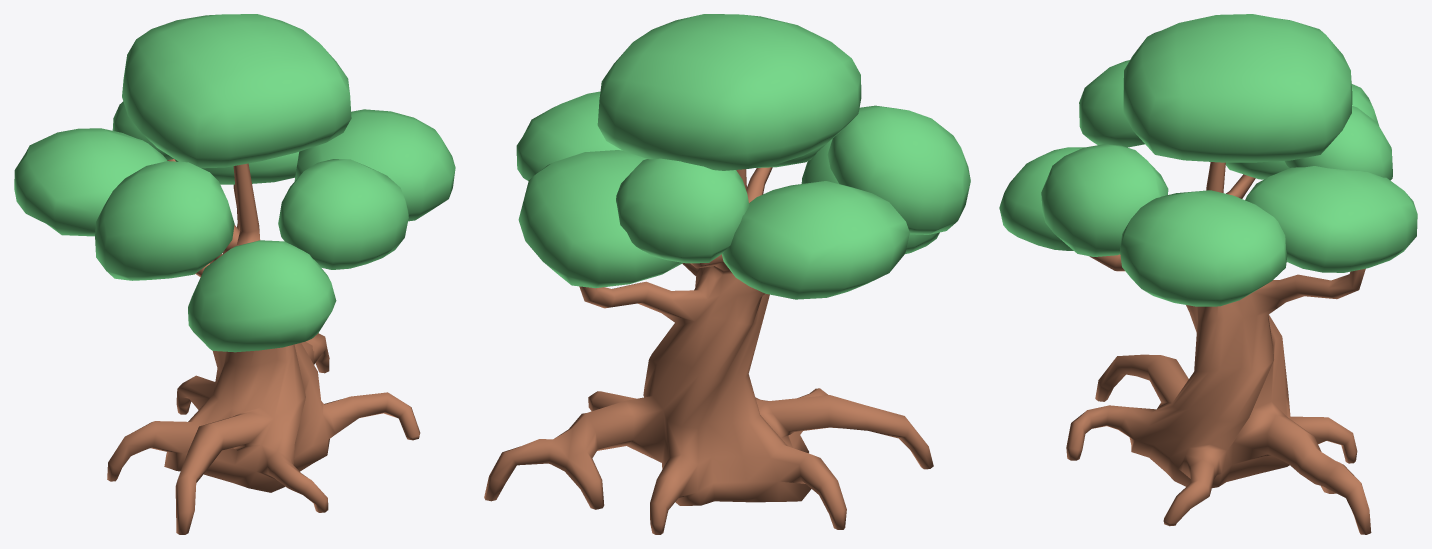
Rendered from TreeGiant_B_01_LOD2.gltf.
3 renders of one model, left to right at view 1: azimuth 30°, elevation 25°; view 2: azimuth 150°, elevation 25°; view 3: azimuth 270°, elevation 25°, orthographic. The views are drawn at different scales.
Visible parts, largest first — view 1: TreeGiant_B_01_LOD2_Cylinder.810; view 2: TreeGiant_B_01_LOD2_Cylinder.810; view 3: TreeGiant_B_01_LOD2_Cylinder.810.
Part boxes in pixels (x1,y1,x2,y2): TreeGiant_B_01_LOD2_Cylinder.810: (14, 14, 455, 534); TreeGiant_B_01_LOD2_Cylinder.810: (484, 14, 970, 534); TreeGiant_B_01_LOD2_Cylinder.810: (999, 14, 1417, 534).
Bounding box in the file's own units: 19.08 × 20.57 × 18.2.
1 material, 1 textured.
